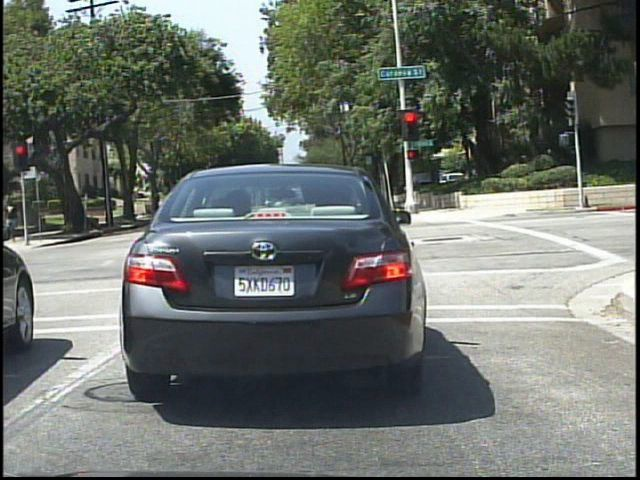person: (3, 194, 21, 246)
